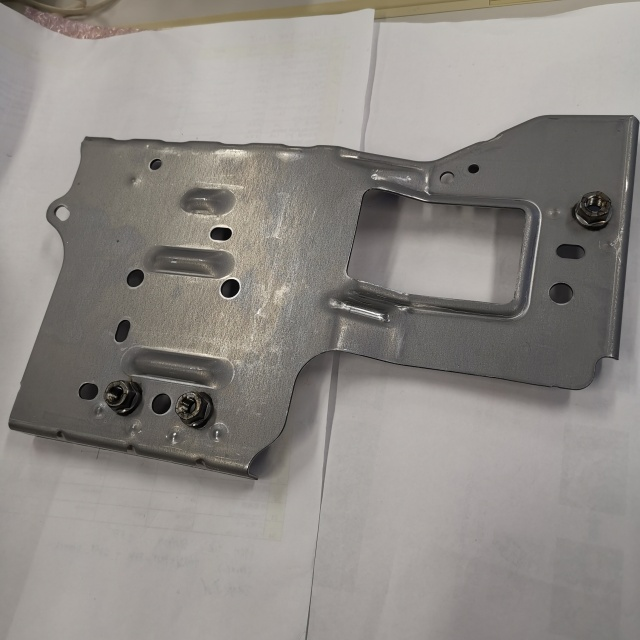dog: (571, 189, 614, 232), (101, 377, 143, 419), (173, 390, 214, 432)
